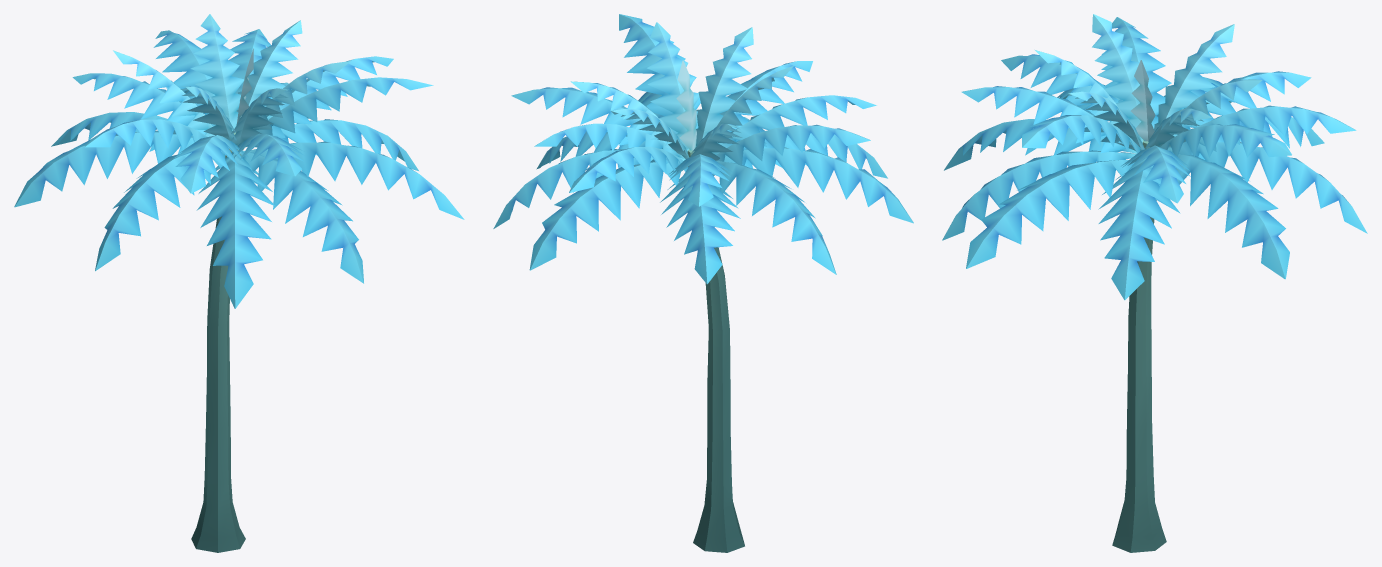
File: alien_tree_lod1.glb
3 views of the same model, side by side, from view 1: azimuth 30°, elevation 25°; view 2: azimuth 150°, elevation 25°; view 3: azimuth 270°, elevation 25° (orthographic). The views are drawn at different scales.
Parts seen in each view (by area): view 1: AlienTree; view 2: AlienTree; view 3: AlienTree.
Boxes of the visible parts, x1,y1,x2,y2 form: AlienTree: [14, 14, 464, 552]; AlienTree: [493, 14, 913, 552]; AlienTree: [942, 14, 1367, 552].
Bounding box in the file's own units: 3.61 × 4.7 × 3.63.
